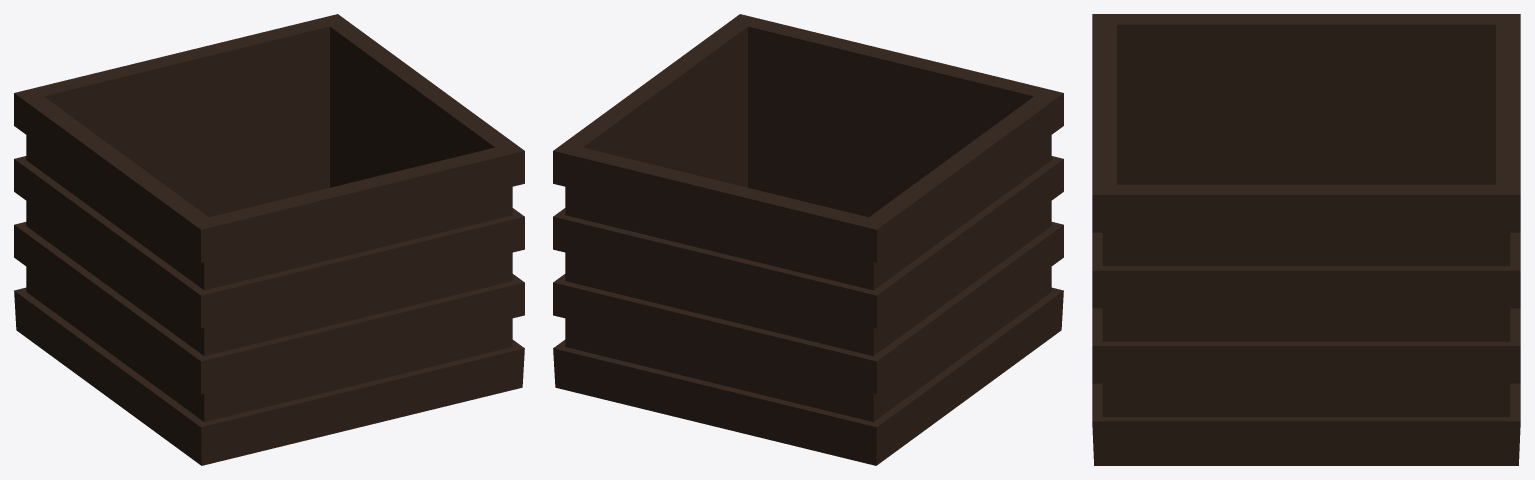
File: crate.FBX
3 renders of one model, left to right at view 1: azimuth 30°, elevation 25°; view 2: azimuth 150°, elevation 25°; view 3: azimuth 270°, elevation 25°, orthographic. The views are drawn at different scales.
Visible parts, largest first — view 1: Box003; view 2: Box003; view 3: Box003.
Part boxes in pixels (left/top/right/bottom): Box003: left=14, top=14, right=524, bottom=465; Box003: left=553, top=14, right=1063, bottom=465; Box003: left=1092, top=14, right=1520, bottom=465.
Bounding box in the file's own units: 73.54 × 51.44 × 73.54.
